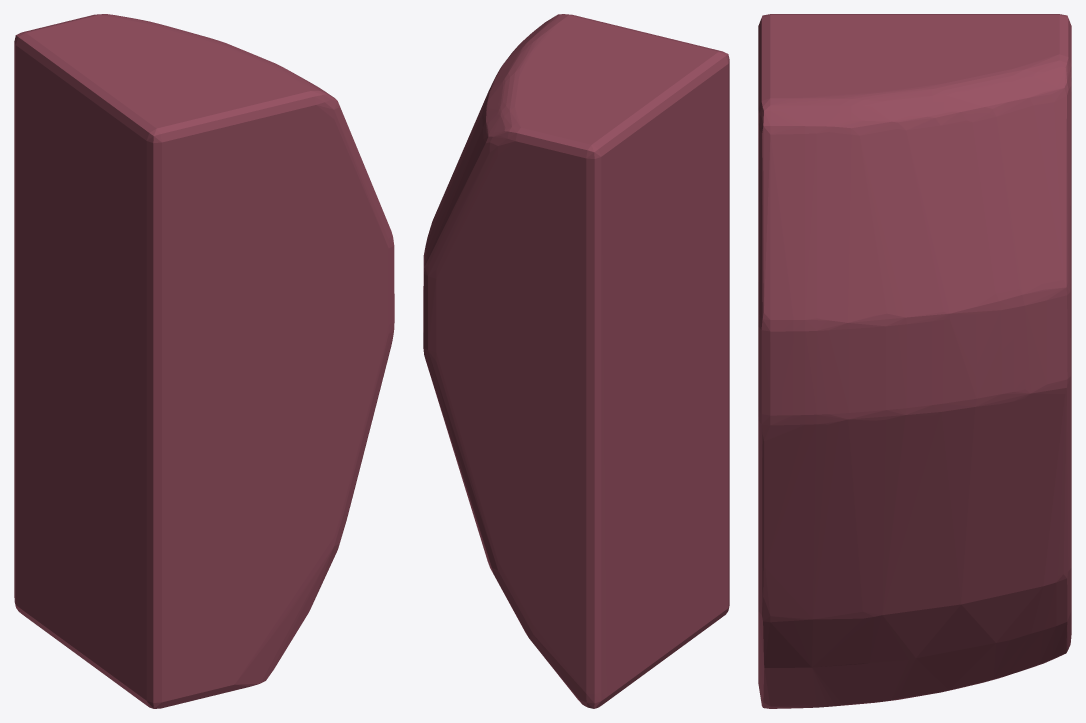
Rendered from left_hip_roll_link_part_13.obj.
3 views of the same model, side by side, from view 1: azimuth 30°, elevation 25°; view 2: azimuth 150°, elevation 25°; view 3: azimuth 270°, elevation 25° (orthographic). The views are drawn at different scales.
Bounding box in the file's own units: 0.0335 × 0.0752 × 0.0334.
